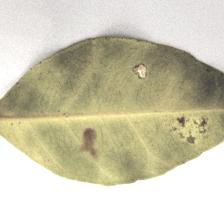black spot: (58, 56, 210, 171)
